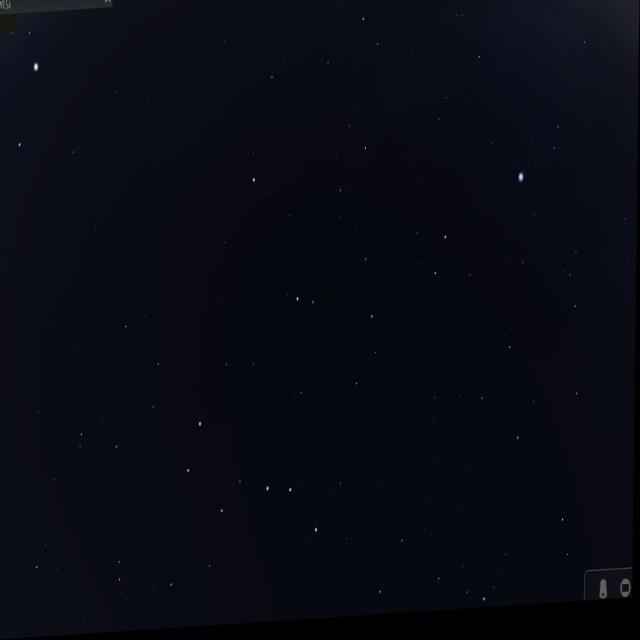lyra: (508, 111, 566, 201)
ursa_major: (180, 401, 322, 552)
